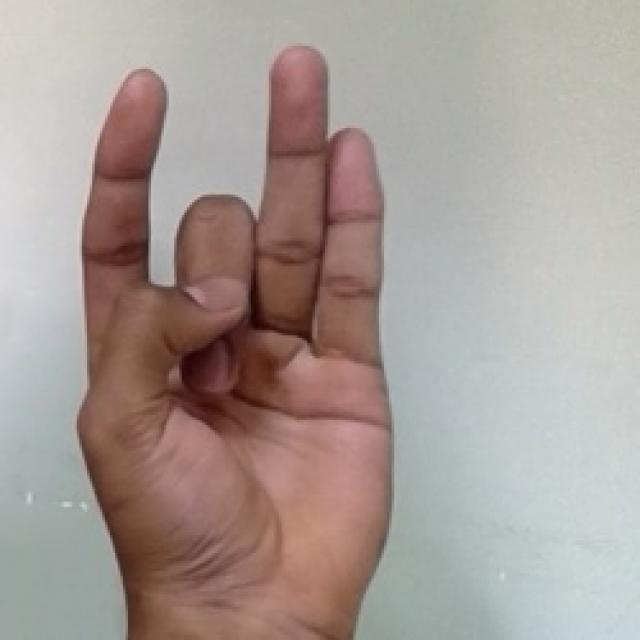Numeric-8: (78, 44, 410, 603)
